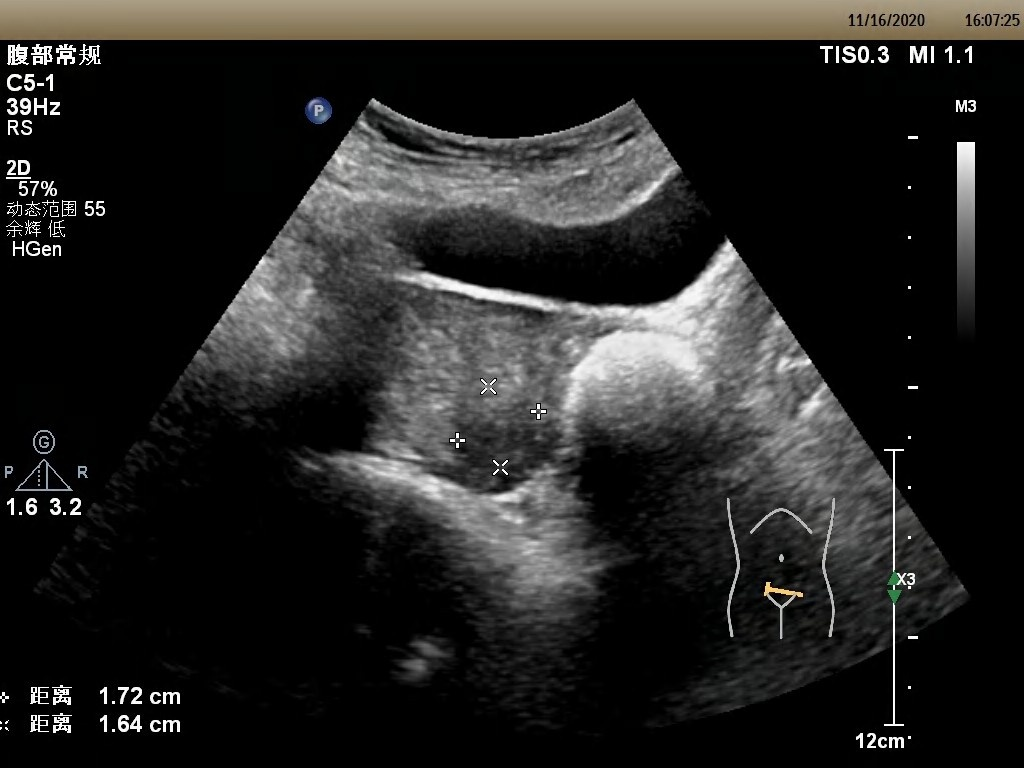肌瘤: (456, 390, 538, 458)
